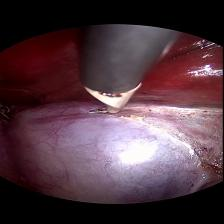Grasper: (0, 94, 25, 124)
Hook: (81, 72, 145, 117)
